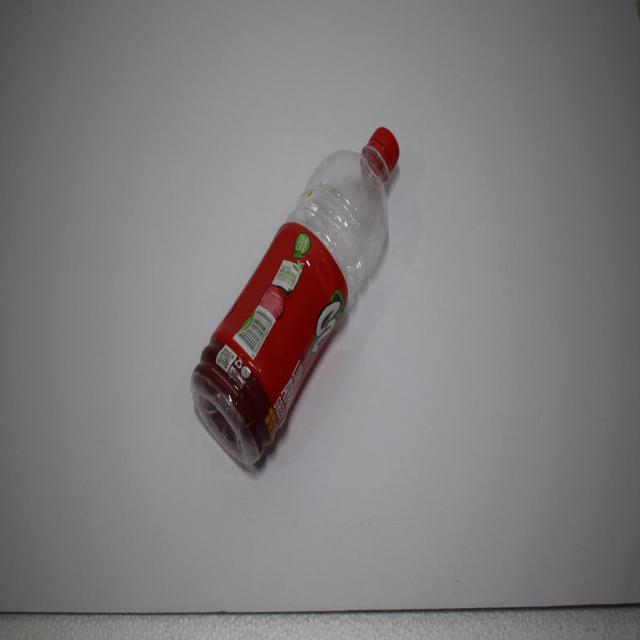bottle: (190, 120, 402, 478)
